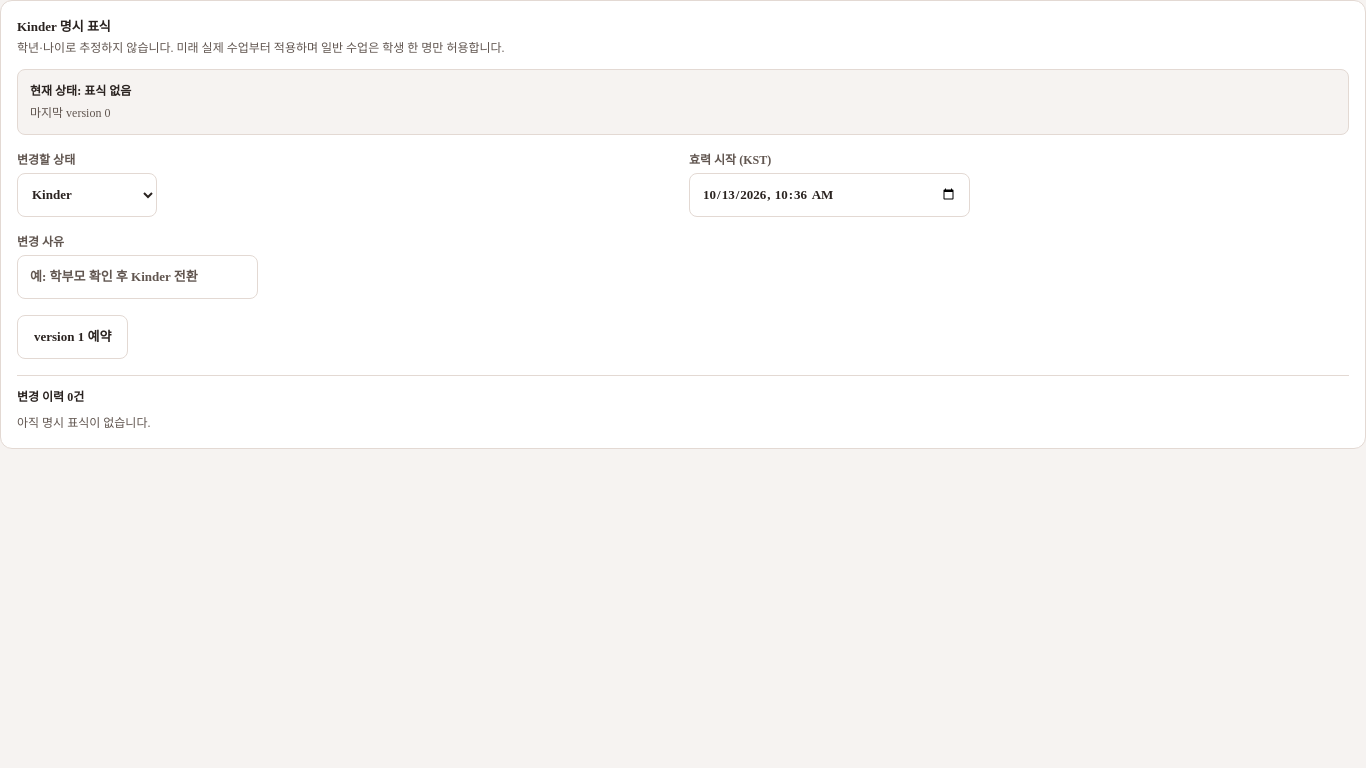
Test: KinderMarkerPanel › 409는 자동 분리하지 않고 원래 회차일·실제일·충돌기간을 표시한다
expect the text "현재 상태: 표식 없음" is shown: met, box [30,84,131,98]
Step 1. Click the button "version 1 예약" → (73, 336), box [17,314,128,358]
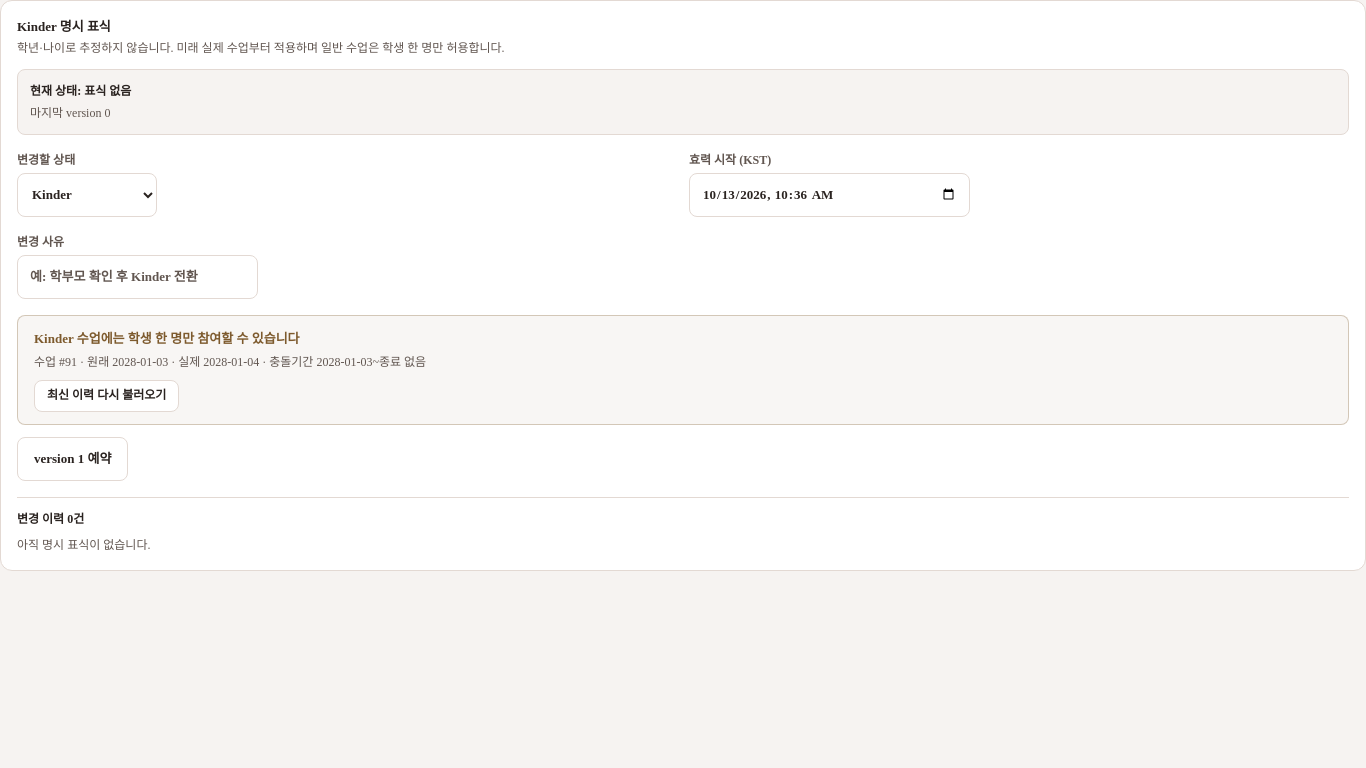
expect the text "Kinder 수업에는 학생 한 명만 참여할 수 있습니다" is shown: met, box [34,330,300,346]
expect the text "수업 #91 · 원래 2028-01-03 · 실제 2028-01-04 · 충돌기간 2028-01-03~종료 없음" is shown: met, box [34,355,426,369]
expect the button "최신 이력 다시 불러오기" is shown: met, box [34,380,179,412]
